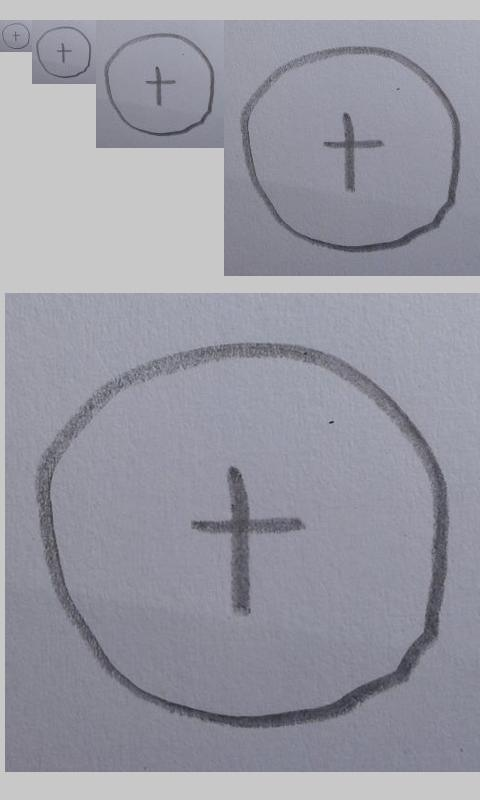button: (36, 339, 453, 728), (239, 45, 463, 253), (104, 32, 215, 137), (36, 26, 91, 78), (2, 23, 30, 49)
